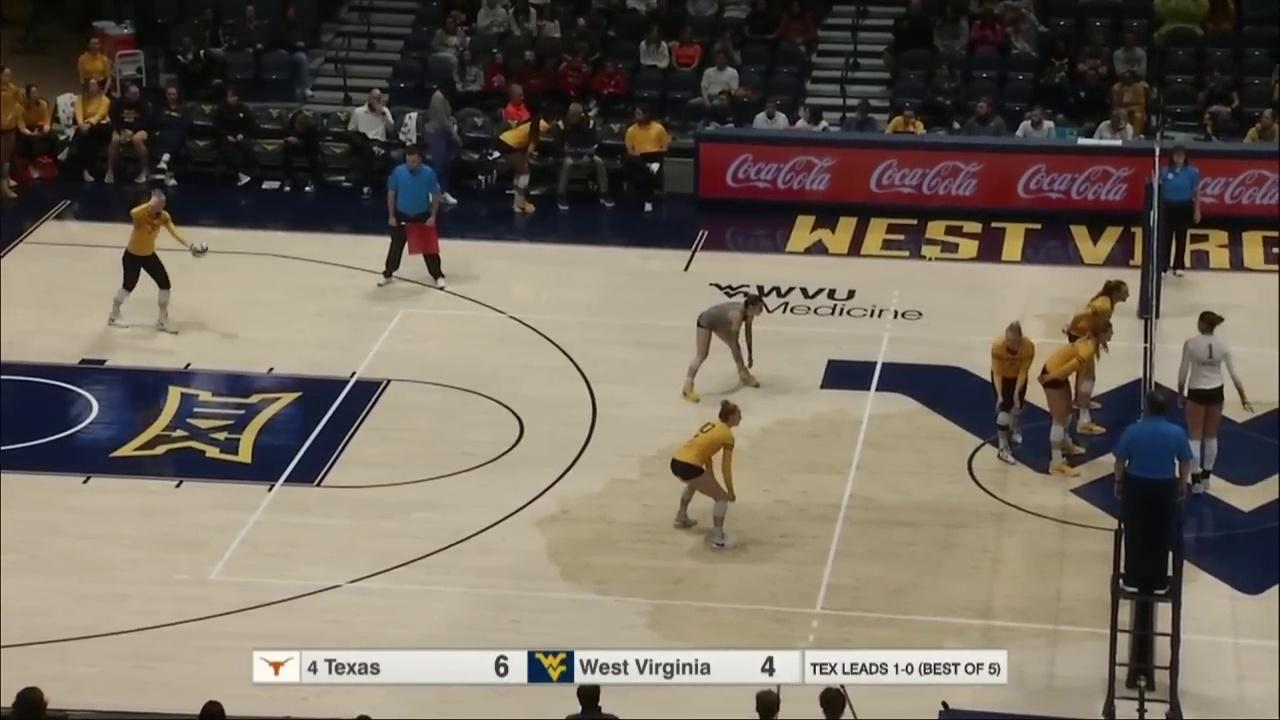player: (1177, 311, 1253, 493), (109, 187, 198, 336), (1039, 320, 1115, 475), (669, 403, 748, 551), (1066, 279, 1131, 435), (681, 294, 765, 402), (989, 320, 1035, 464)
refree: (1111, 389, 1193, 594), (377, 151, 451, 291), (1154, 145, 1201, 280)
